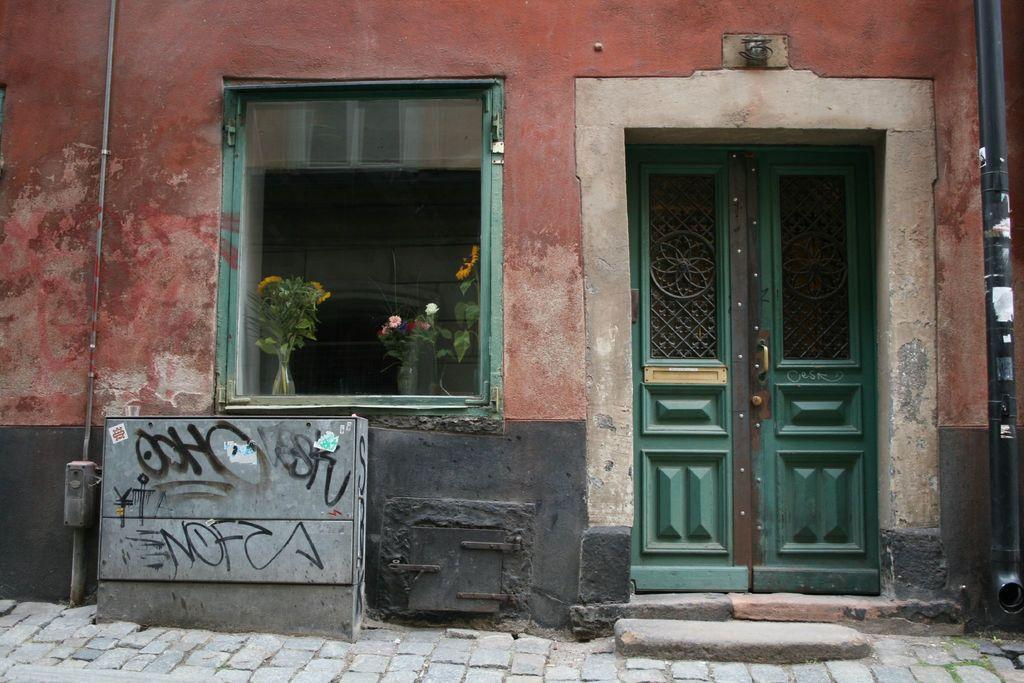door: (755, 167, 872, 584), (649, 167, 753, 576)
handle: (758, 338, 776, 378), (750, 388, 764, 413)
